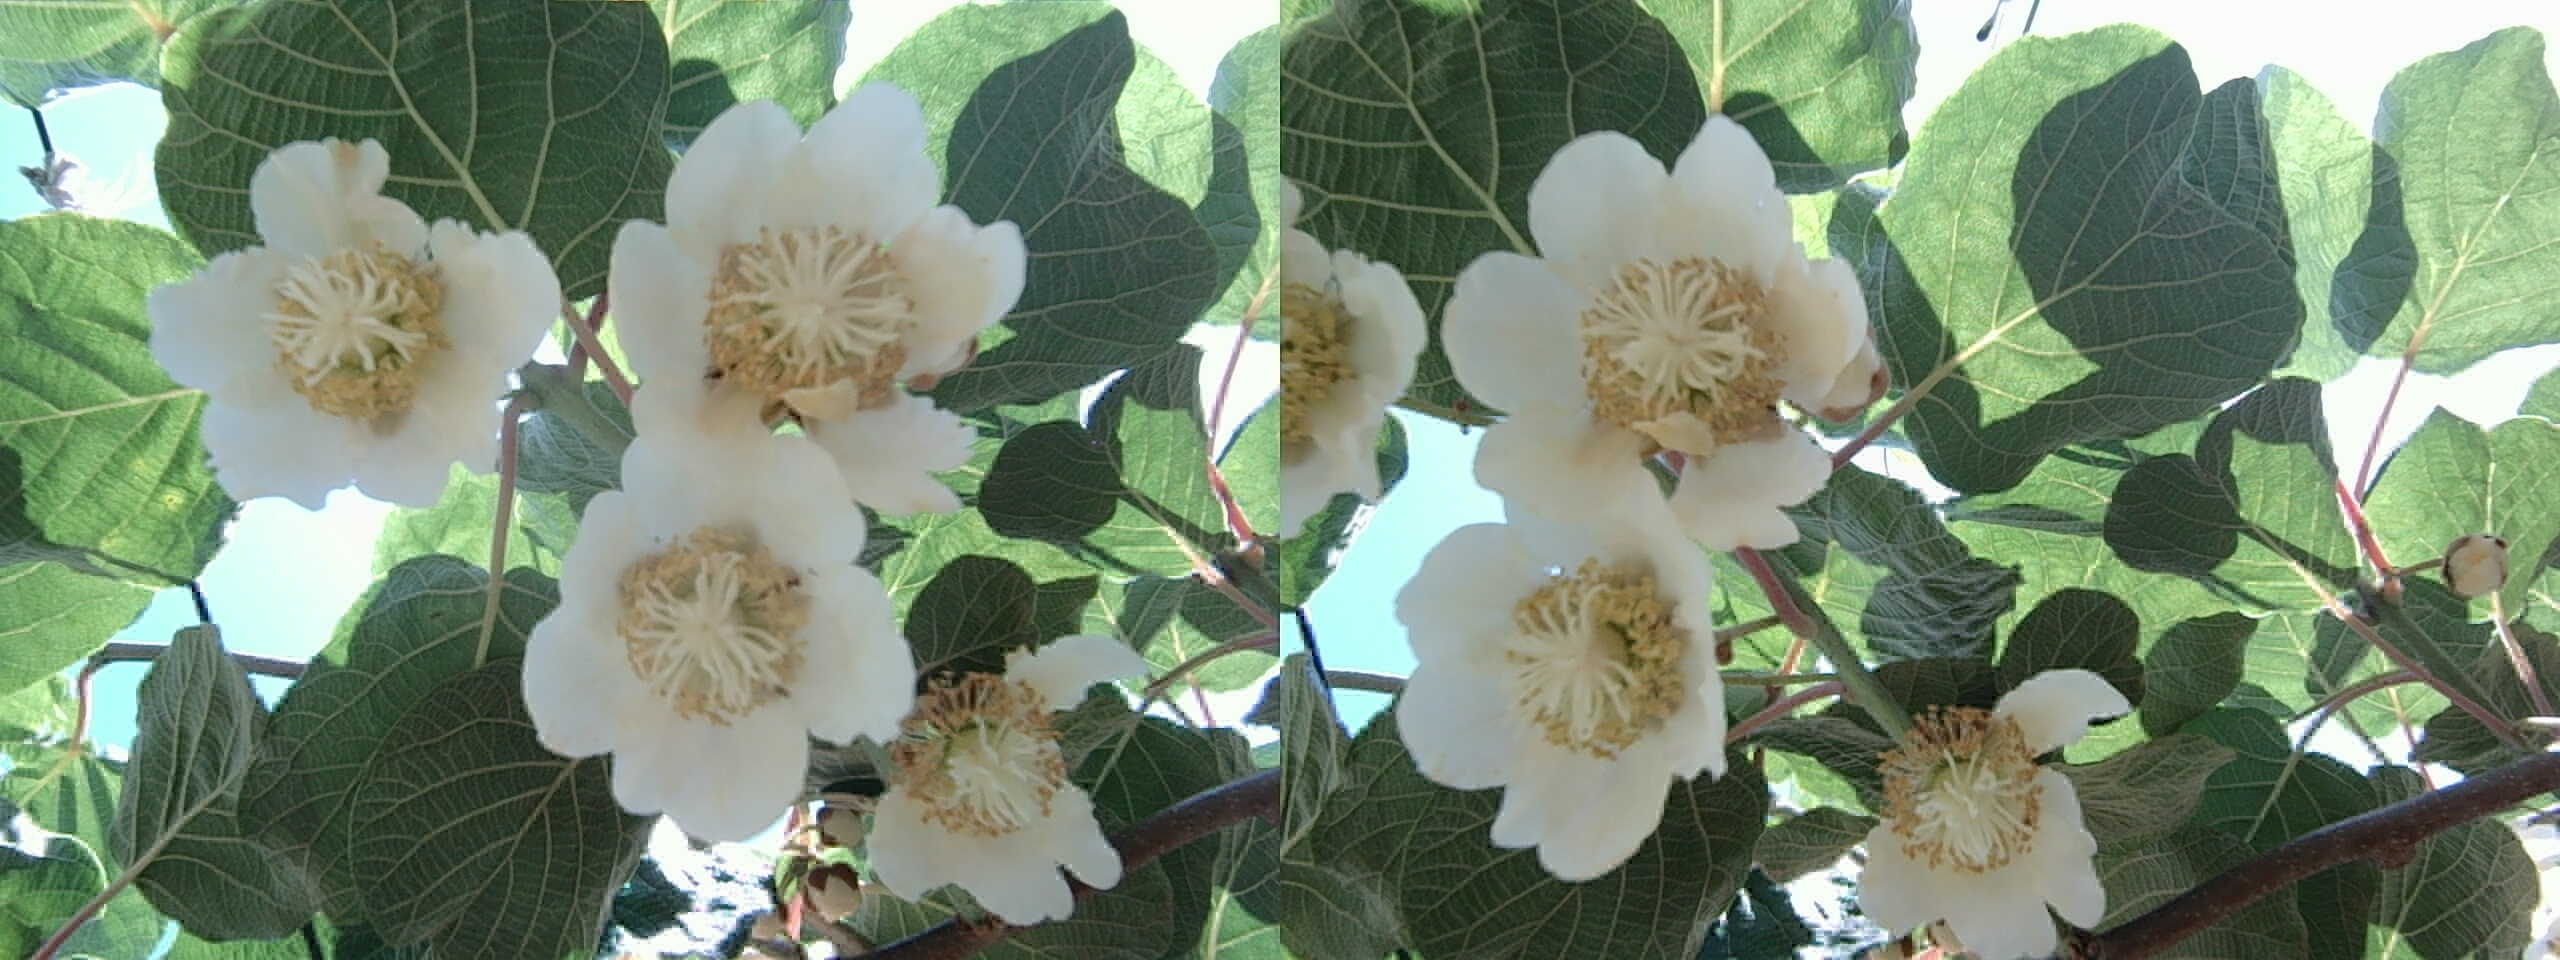flower: (1406, 464, 1729, 872), (539, 459, 887, 816), (170, 173, 529, 491), (642, 121, 1002, 428), (1535, 171, 1860, 465), (833, 650, 1113, 919), (1850, 666, 2104, 939), (1282, 235, 1416, 511)
